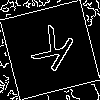K: (25, 25, 77, 81)
